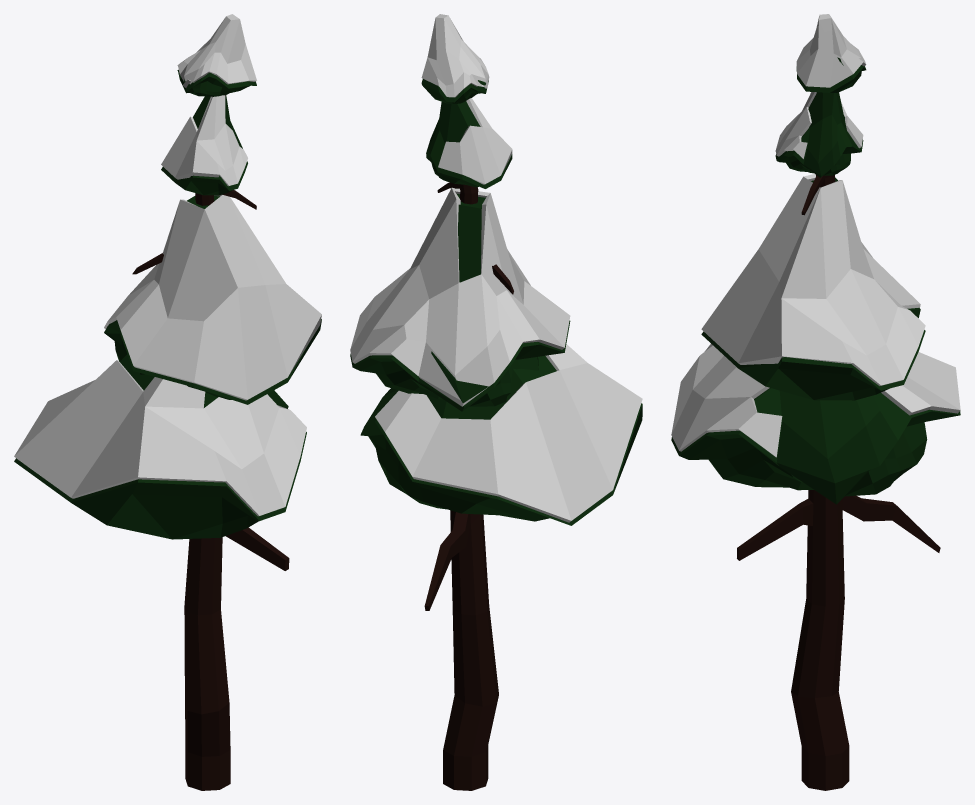
Rendered from ElkSnow1.obj.
3 views of the same model, side by side, from view 1: azimuth 30°, elevation 25°; view 2: azimuth 150°, elevation 25°; view 3: azimuth 270°, elevation 25° (orthographic). The views are drawn at different scales.
Parts seen in each view (by area): view 1: Cube.168, Cube.171, Cylinder.106, Cube.167, Cube.170, Cube.169, Cube.166, Cube.153, Cube.152; view 2: Cube.168, Cube.171, Cylinder.106, Cube.167, Cube.166, Cube.169, Cube.170, Cube.153, Cube.152; view 3: Cube.171, Cube.167, Cylinder.106, Cube.168, Cube.166, Cube.153, Cube.169, Cube.170, Cube.152.
Part boxes in pixels (<box>): Cube.168: <box>14,360,306,516</box>; Cube.171: <box>104,194,321,400</box>; Cylinder.106: <box>132,95,289,790</box>; Cube.167: <box>14,354,306,539</box>; Cube.170: <box>161,95,247,186</box>; Cube.169: <box>177,14,256,87</box>; Cube.166: <box>104,195,321,404</box>; Cube.153: <box>161,95,247,195</box>; Cube.152: <box>177,70,256,96</box>; Cube.168: <box>375,344,642,522</box>; Cube.171: <box>350,187,570,406</box>; Cylinder.106: <box>424,182,513,790</box>; Cube.167: <box>360,356,642,525</box>; Cube.166: <box>350,193,570,411</box>; Cube.169: <box>421,14,489,97</box>; Cube.170: <box>438,98,512,184</box>; Cube.153: <box>426,101,512,188</box>; Cube.152: <box>421,79,488,103</box>; Cube.171: <box>701,174,925,385</box>; Cube.167: <box>671,388,960,504</box>; Cylinder.106: <box>737,175,940,790</box>; Cube.168: <box>671,344,960,457</box>; Cube.166: <box>701,177,925,400</box>; Cube.153: <box>775,92,863,177</box>; Cube.169: <box>796,14,866,87</box>; Cube.170: <box>775,92,863,158</box>; Cube.152: <box>796,57,866,92</box>.
Size of the model in its own units: 11.99 by 35.85 by 12.1.
